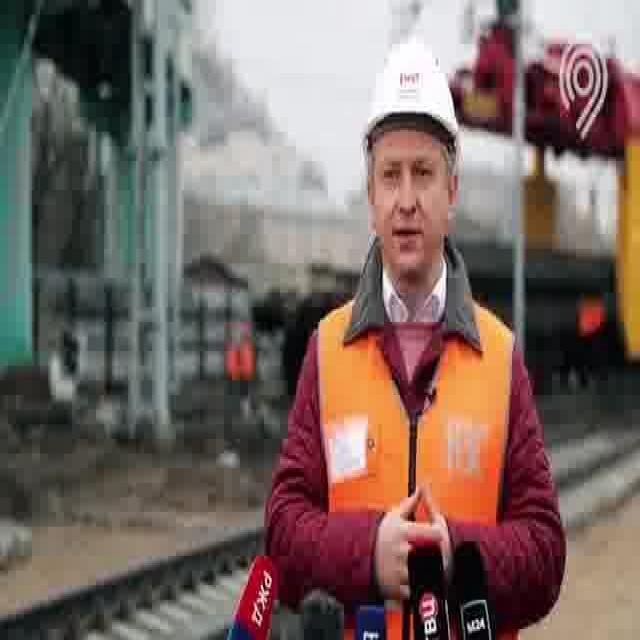helmet: (358, 40, 462, 163)
vest: (313, 292, 525, 640)
